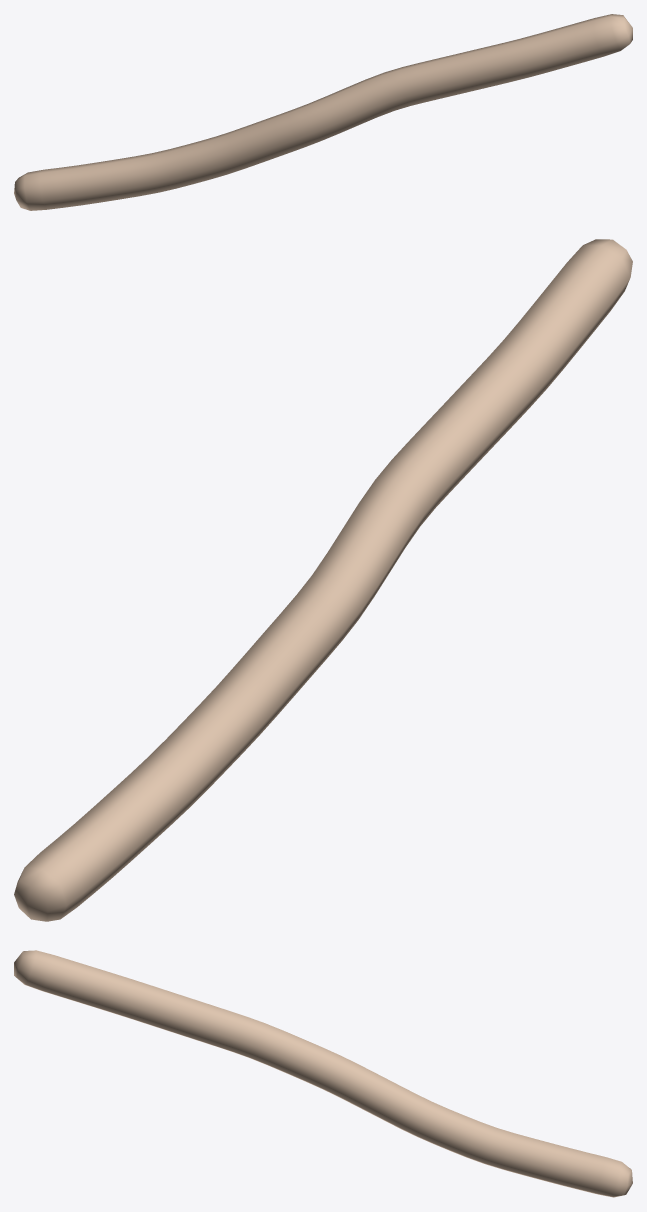
3 renders of one model, top to bottom at view 1: azimuth 90°, elevation 25°; view 2: azimuth 150°, elevation 25°; view 3: azimuth 270°, elevation 25°, orthographic. The views are drawn at different scales.
Parts seen in each view (by area): view 1: 右侧小指伸肌腱鞘; view 2: 右侧小指伸肌腱鞘; view 3: 右侧小指伸肌腱鞘.
Part boxes in pixels (<box>): 右侧小指伸肌腱鞘: <box>14,14,632,210</box>; 右侧小指伸肌腱鞘: <box>14,239,632,921</box>; 右侧小指伸肌腱鞘: <box>14,950,632,1197</box>.
Bounding box in the file's own units: 0.0178 × 0.0426 × 0.1092.
